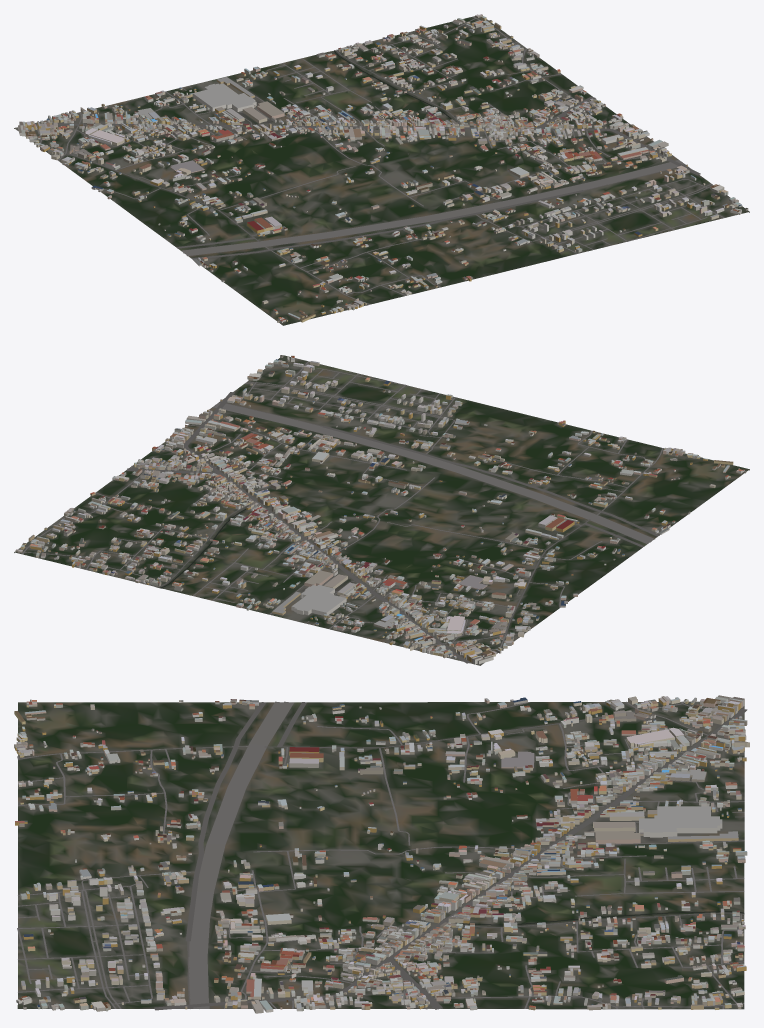
3 renders of one model, top to bottom at view 1: azimuth 30°, elevation 25°; view 2: azimuth 150°, elevation 25°; view 3: azimuth 270°, elevation 25°, orthographic. The views are drawn at different scales.
Parts seen in each view (by area): view 1: ground, buildings, roads; view 2: ground, buildings, roads; view 3: ground, buildings, roads.
Part boxes in pixels (left/top/right/bottom): ground: left=14, top=16, right=749, bottom=325; buildings: left=18, top=14, right=748, bottom=322; roads: left=35, top=16, right=724, bottom=305; ground: left=14, top=355, right=749, bottom=665; buildings: left=15, top=355, right=746, bottom=664; roads: left=22, top=361, right=664, bottom=663; ground: left=17, top=701, right=744, bottom=1009; buildings: left=14, top=695, right=749, bottom=1013; roads: left=17, top=701, right=747, bottom=1010.
Size of the model in its own units: 1431 by 23.66 by 1419.
